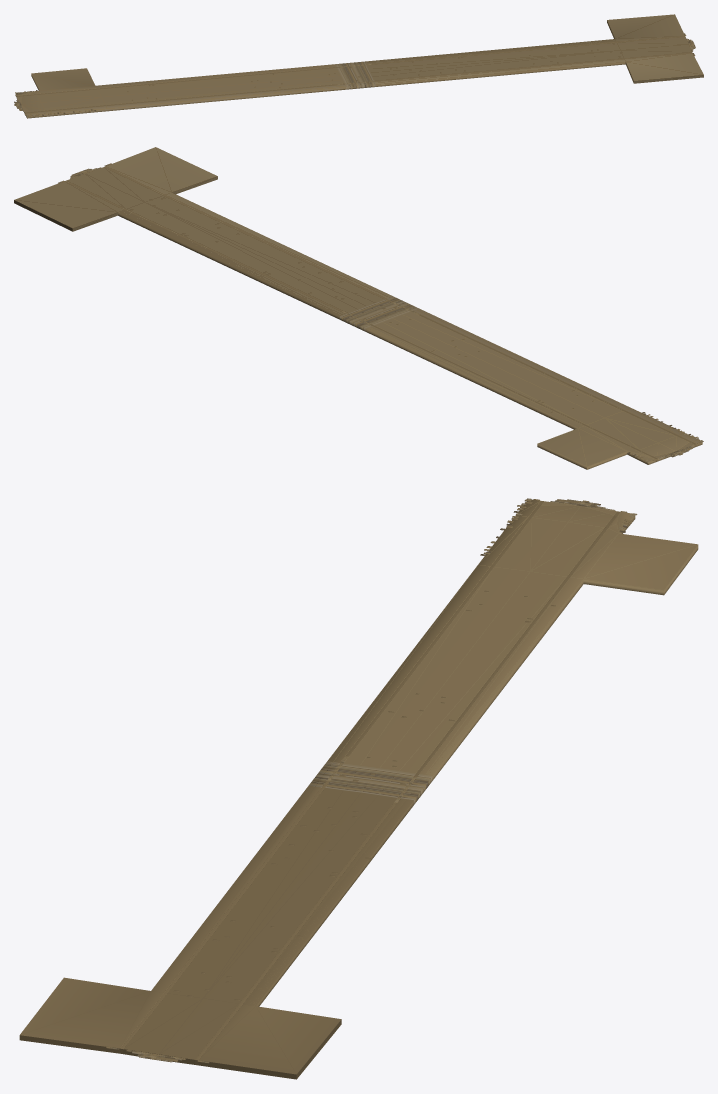
The model's file is objects_un_t03tile01.gltf.
3 views of the same model, one above another, from view 1: azimuth 30°, elevation 25°; view 2: azimuth 150°, elevation 25°; view 3: azimuth 270°, elevation 25° (orthographic). The views are drawn at different scales.
Parts seen in each view (by area): view 1: um_objects_un_t03tile01_model_lod0Shape:objects_un_t03tile01, um_objects_un_t03tile01_model_lod1Shape:objects_un_t03tile01; view 2: um_objects_un_t03tile01_model_lod0Shape:objects_un_t03tile01, um_objects_un_t03tile01_model_lod1Shape:objects_un_t03tile01; view 3: um_objects_un_t03tile01_model_lod0Shape:objects_un_t03tile01, um_objects_un_t03tile01_model_lod1Shape:objects_un_t03tile01, um_objects_un_t03tile01_model_lod2Shape:objects_un_t03tile01.
Part boxes in pixels (<box>): um_objects_un_t03tile01_model_lod0Shape:objects_un_t03tile01: <box>14,14,703,118</box>; um_objects_un_t03tile01_model_lod1Shape:objects_un_t03tile01: <box>14,39,615,117</box>; um_objects_un_t03tile01_model_lod0Shape:objects_un_t03tile01: <box>14,147,703,469</box>; um_objects_un_t03tile01_model_lod1Shape:objects_un_t03tile01: <box>120,210,692,458</box>; um_objects_un_t03tile01_model_lod0Shape:objects_un_t03tile01: <box>19,498,698,1079</box>; um_objects_un_t03tile01_model_lod1Shape:objects_un_t03tile01: <box>244,502,599,1005</box>; um_objects_un_t03tile01_model_lod2Shape:objects_un_t03tile01: <box>19,501,634,1079</box>.
Size of the model in its own units: 172 by 0.8344 by 85.83.
1 material, 1 textured.
